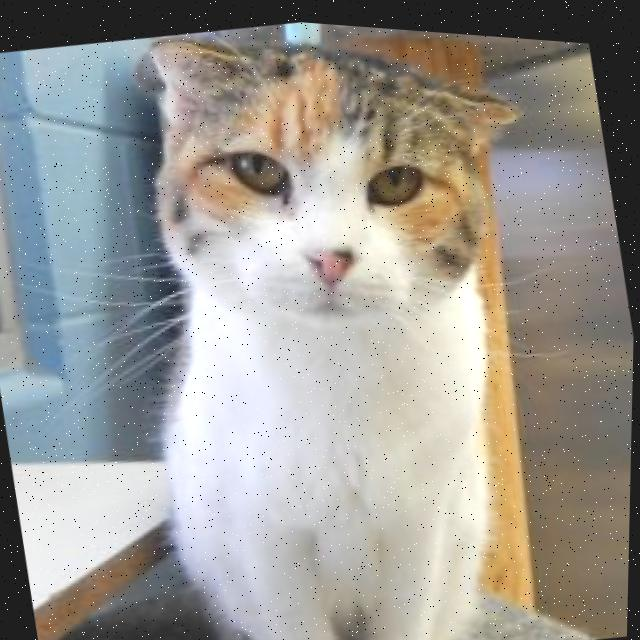Scottish Fold: (73, 5, 621, 640)
